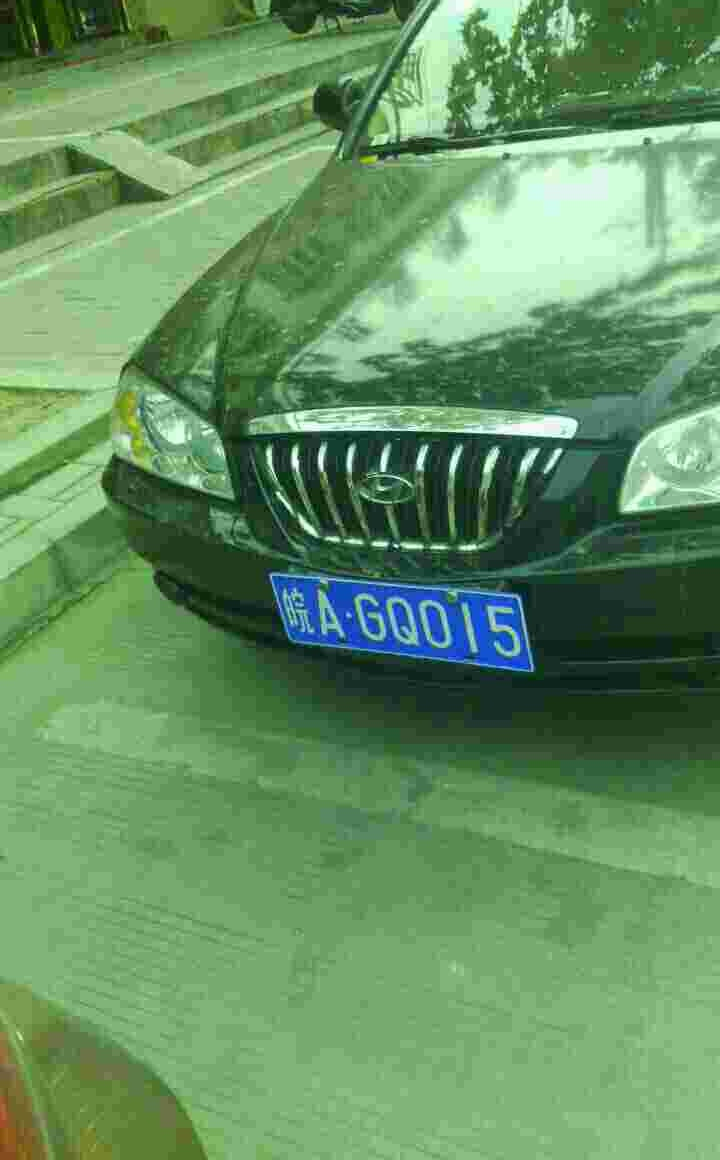plate: (264, 567, 541, 673)
